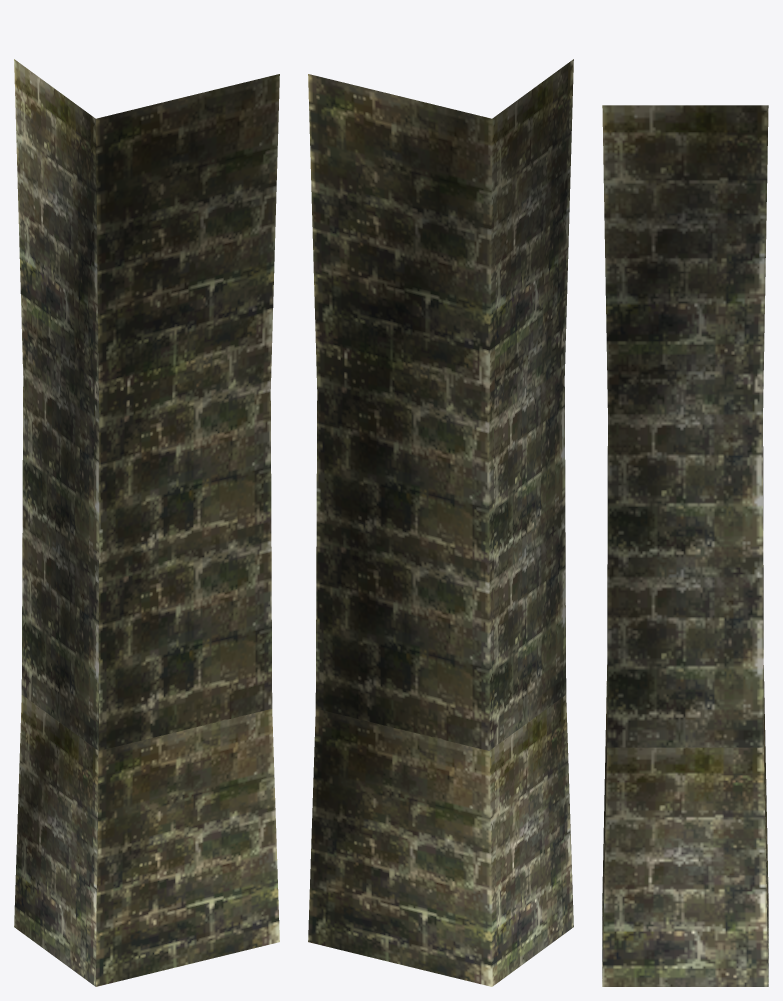
File: OZ_30_kn_piller01B.glb
3 views of the same model, side by side, from view 1: azimuth 30°, elevation 25°; view 2: azimuth 150°, elevation 25°; view 3: azimuth 270°, elevation 25° (orthographic).
Visible parts, largest first — view 1: OM_30_kn_piller01B; view 2: OM_30_kn_piller01B; view 3: OM_30_kn_piller01B.
Boxes of the visible parts, x1,y1,x2,y2 form: OM_30_kn_piller01B: (14, 59, 279, 986); OM_30_kn_piller01B: (308, 59, 573, 986); OM_30_kn_piller01B: (602, 105, 768, 986).
Size of the model in its own units: 1.82 by 8.2 by 1.4.
Materials: 1 (1 with a texture image).
